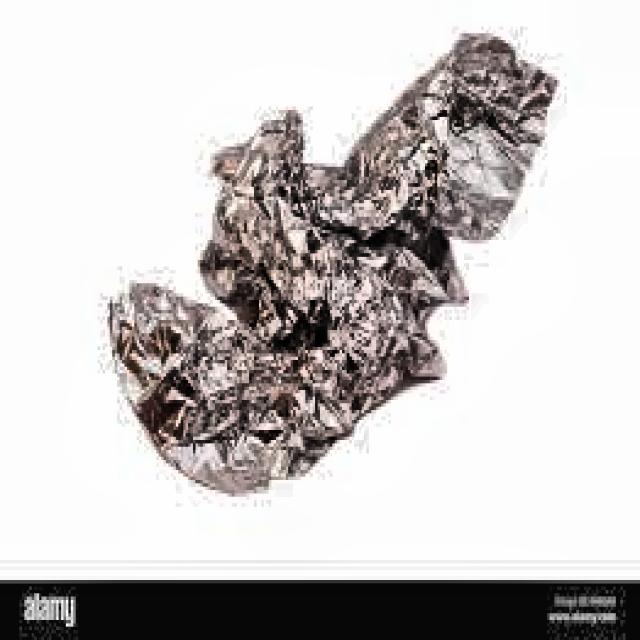Foil: (101, 21, 569, 522)
